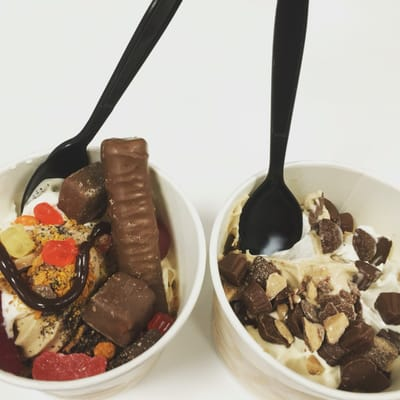salad: (236, 2, 308, 256)
sushi: (0, 110, 207, 400), (208, 154, 399, 400)
